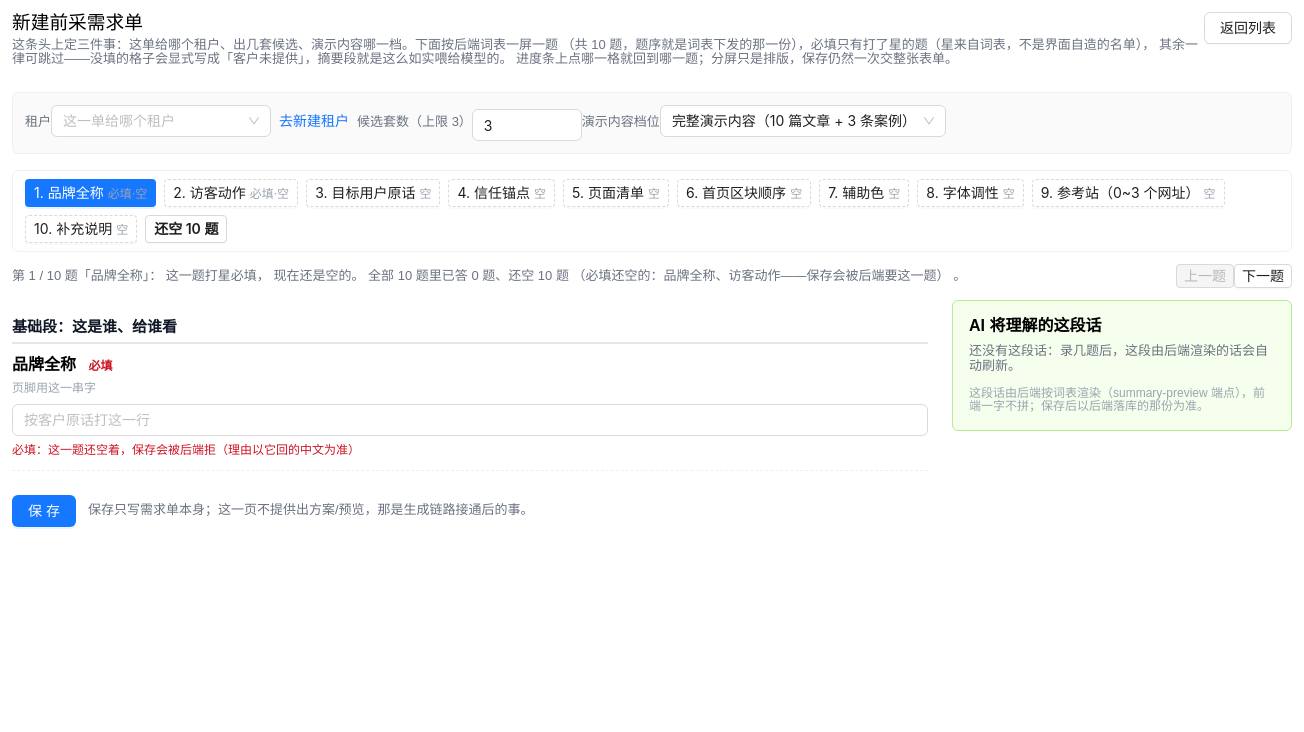
Test case: page_plan 行编辑器（提示只是提示，闸在服务端） › 栏目词表取不到时只在原地说明：不弹全局红 toast
Click the button with class "brief-intake__rail-chip" showing "5. 页面清单 空".
click(616, 193)  # box [563,179,669,207]
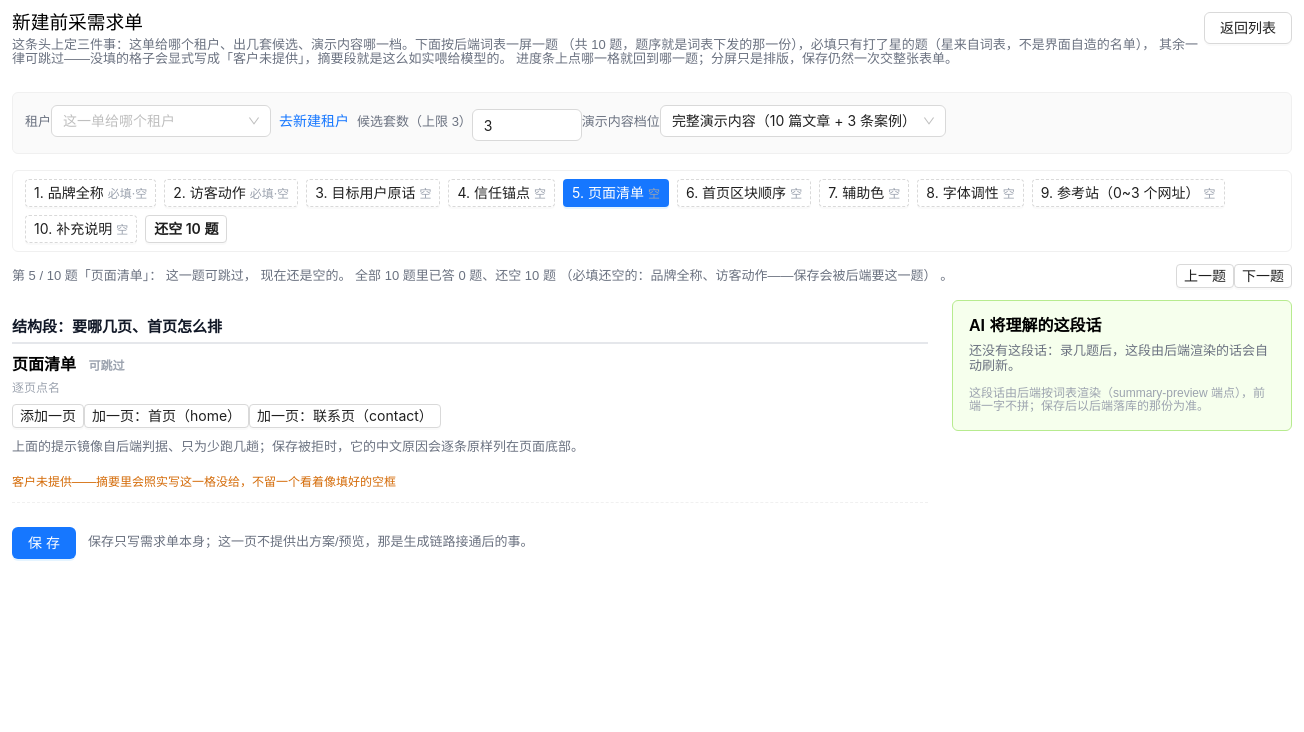
Click the button "加一页：首页（home）".
click(167, 416)  # box [84,404,249,428]
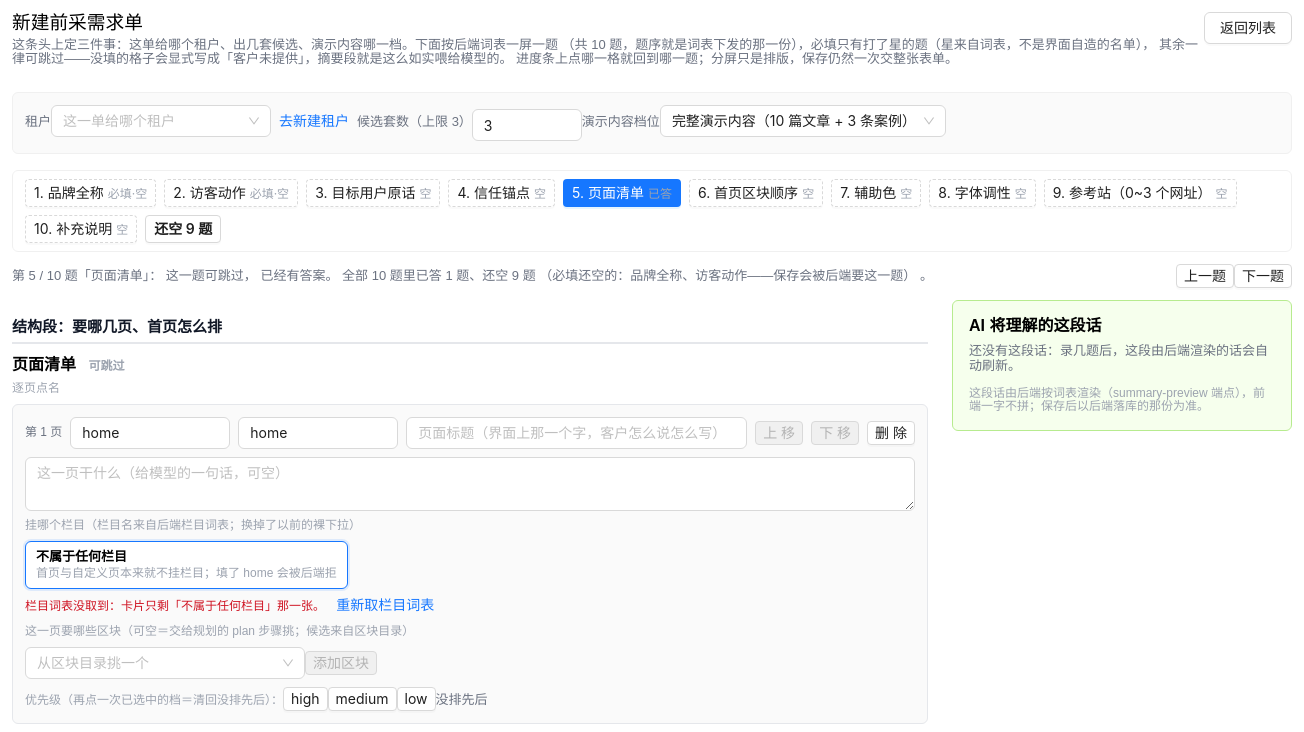
expect the element with class "brief-intake__page-row" shows "栏目词表没取到": met, box [25,599,328,613]
expect the number of buttons with class "brief-intake__section-card" is 1: met, box [25,541,348,589]
Click the button "重新取栏目词表".
click(385, 605)  # box [328,593,442,617]
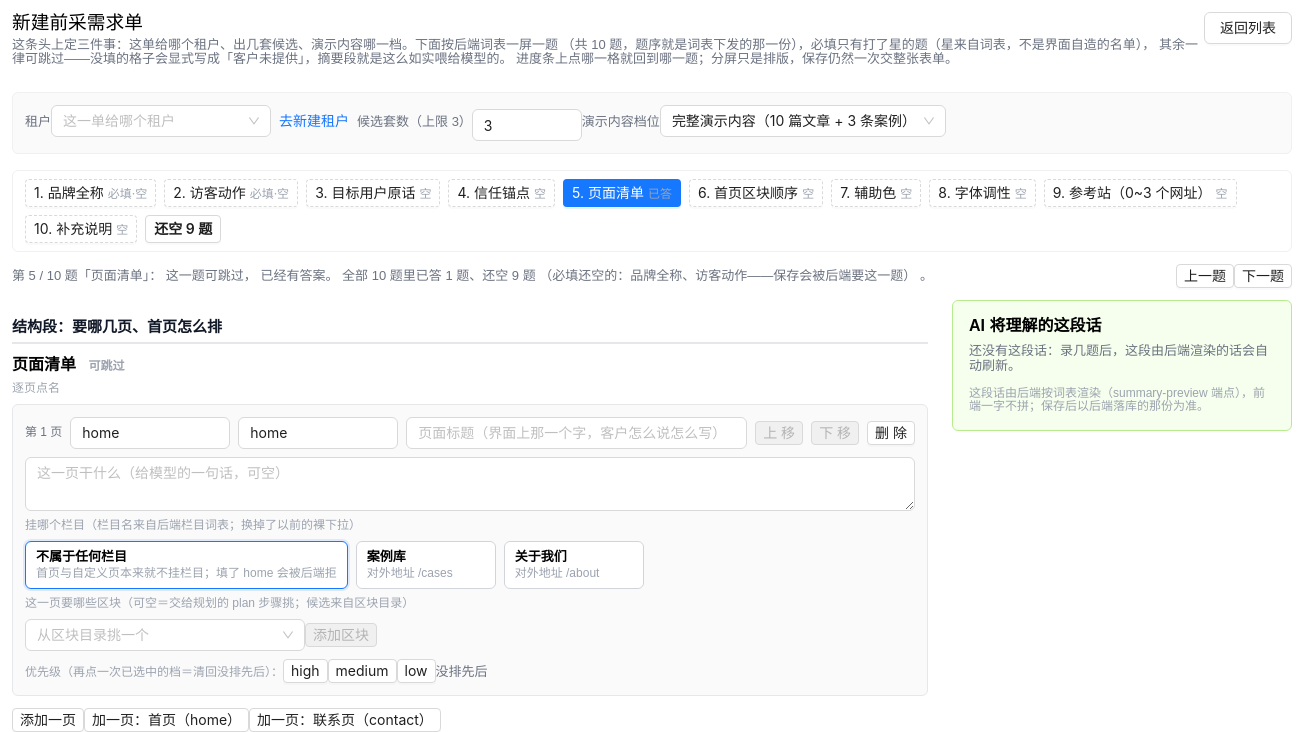
expect the element with class "brief-intake__page-row" no longer shows "栏目词表没取到": met
expect the number of buttons with class "brief-intake__section-card" is 3: met, box [25,541,348,589]; [356,541,496,589]; [504,541,644,589]
